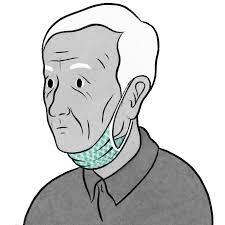Wore Mask Incorrectly: (35, 1, 169, 172)
